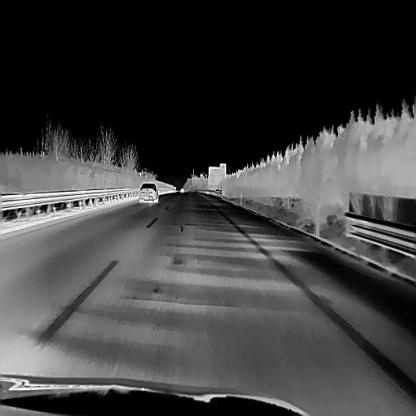car: (139, 182, 158, 203)
